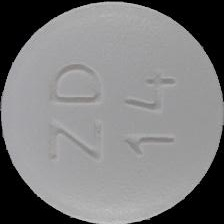61786-732: (0, 0, 224, 224)
